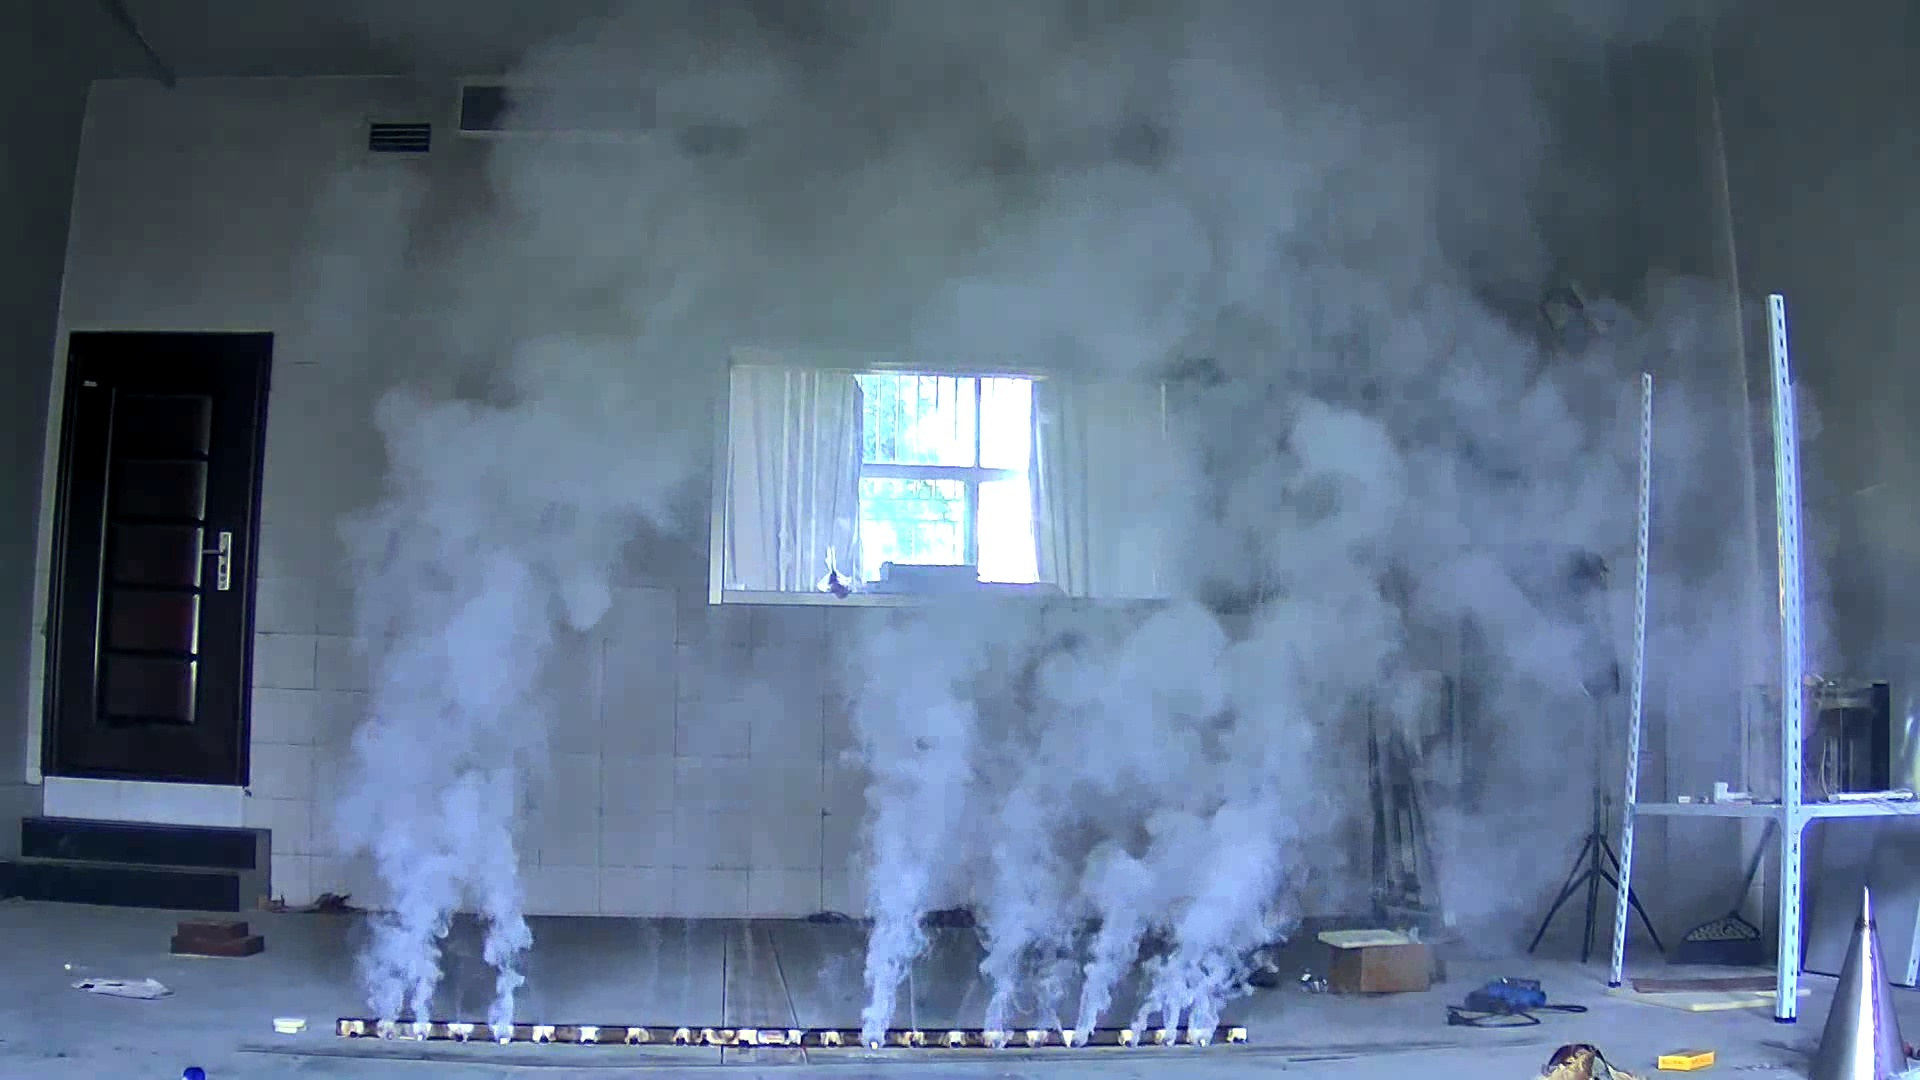smoke: (793, 82, 1511, 1043), (265, 84, 694, 1021)
